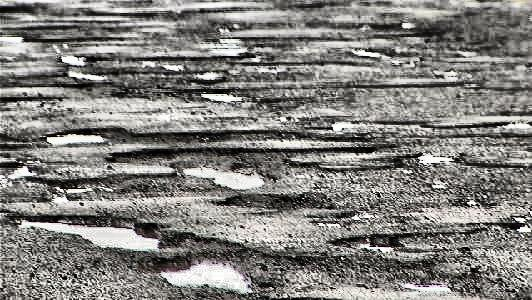pothole: (14, 211, 203, 252), (149, 253, 256, 296), (243, 143, 377, 162), (181, 162, 268, 190), (42, 125, 130, 146), (323, 231, 408, 251), (131, 128, 230, 144), (107, 149, 182, 169), (200, 90, 242, 105)
